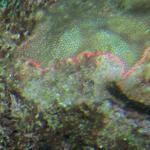dead: (2, 2, 144, 145)
